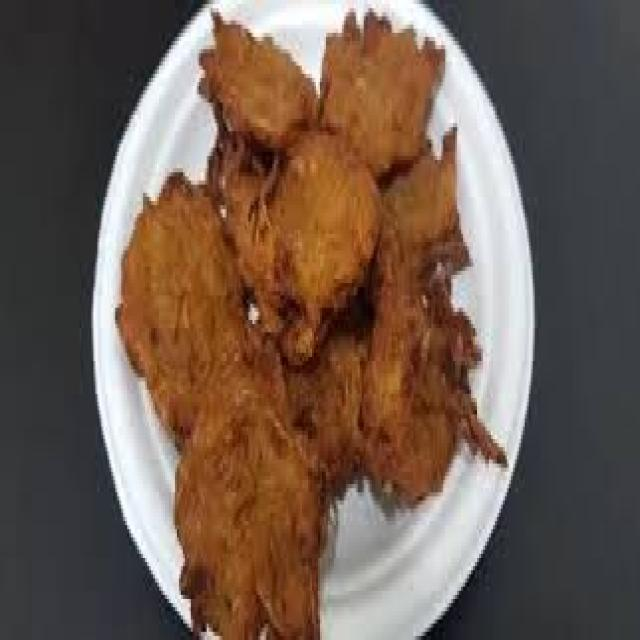BAJI: (116, 0, 508, 636)
